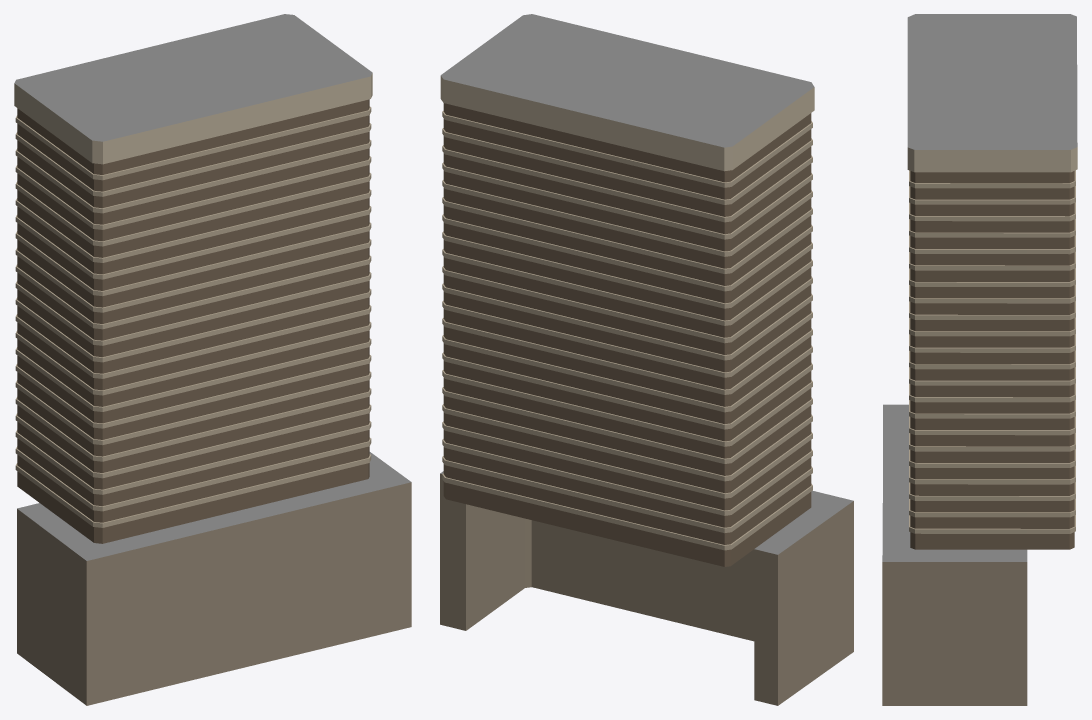
Rendered from key_bank_tower.glb.
3 renders of one model, left to right at view 1: azimuth 30°, elevation 25°; view 2: azimuth 150°, elevation 25°; view 3: azimuth 270°, elevation 25°, orthographic. The views are drawn at different scales.
Visible parts, largest first — view 1: Key_Bank_Tower; view 2: Key_Bank_Tower; view 3: Key_Bank_Tower.
Part boxes in pixels (x1,y1,x2,y2): Key_Bank_Tower: [14, 14, 411, 705]; Key_Bank_Tower: [440, 14, 853, 705]; Key_Bank_Tower: [882, 14, 1077, 705].
Size of the model in its own units: 67.52 by 109 by 35.35.
